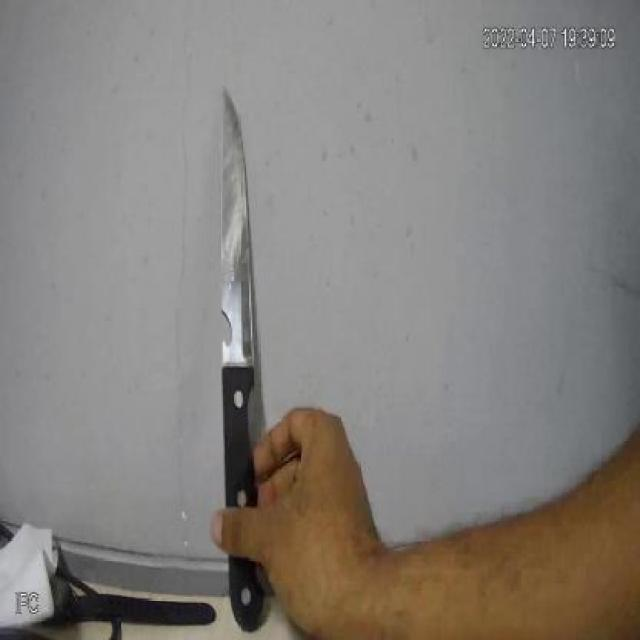-: (203, 68, 286, 631)
